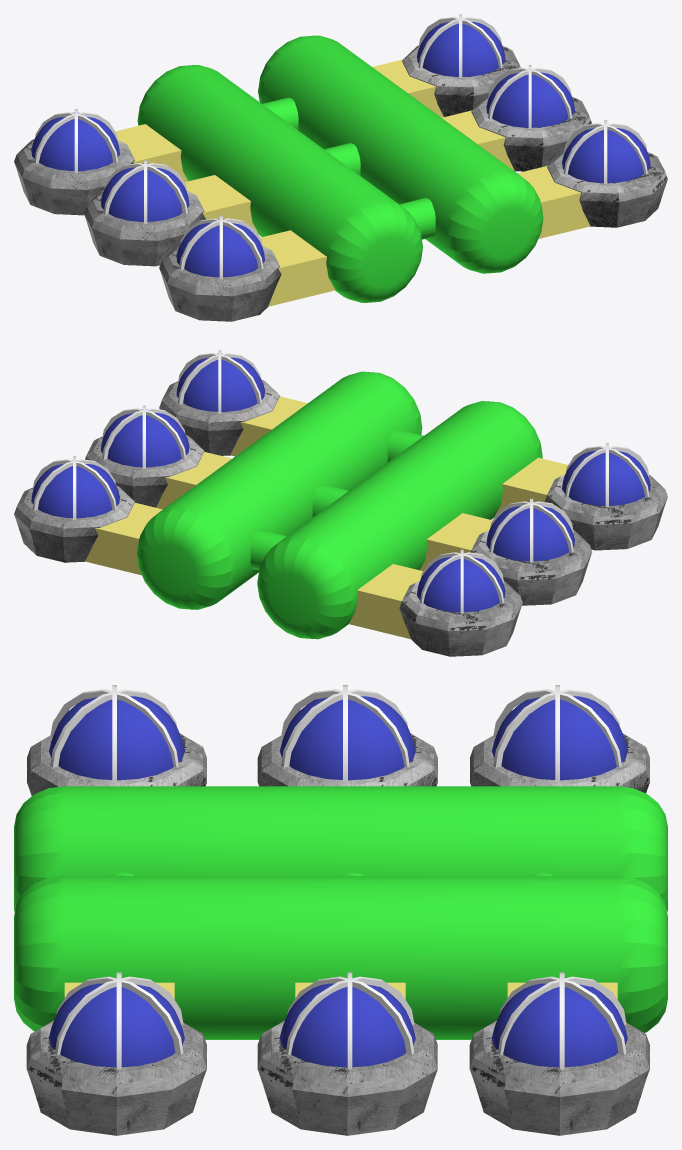
File: PlasticFactory.fbx
3 views of the same model, one above another, from view 1: azimuth 30°, elevation 25°; view 2: azimuth 150°, elevation 25°; view 3: azimuth 270°, elevation 25° (orthographic). The views are drawn at different scales.
Parts seen in each view (by area): view 1: polySurface198; view 2: polySurface198; view 3: polySurface198.
Part boxes in pixels (x1,y1,x2,y2): polySurface198: (14, 14, 667, 321); polySurface198: (14, 350, 667, 656); polySurface198: (14, 685, 667, 1135).
Size of the model in its own units: 87.32 by 16.76 by 65.75.
7 materials, 6 textured.
